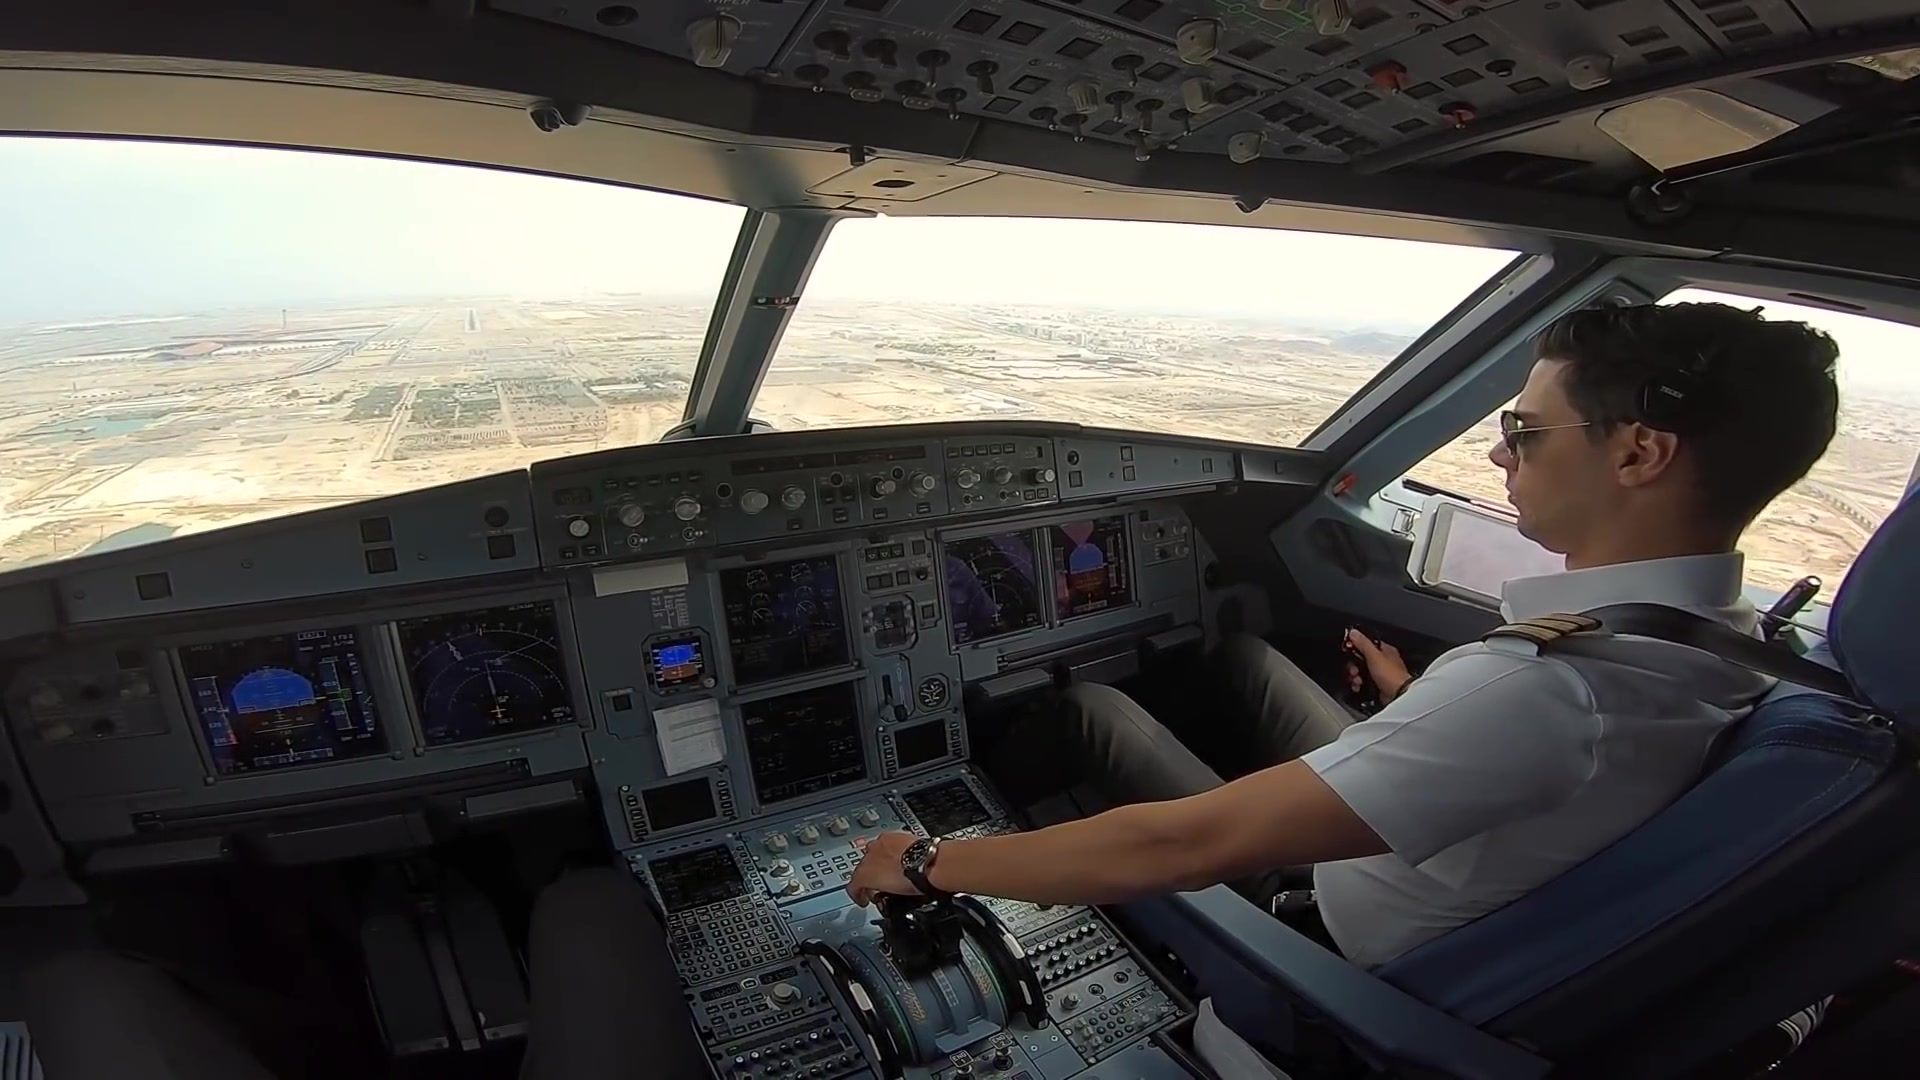runway: (462, 306, 483, 335)
